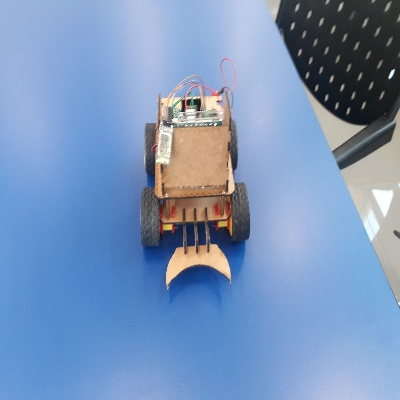Robot: (140, 90, 250, 289)
